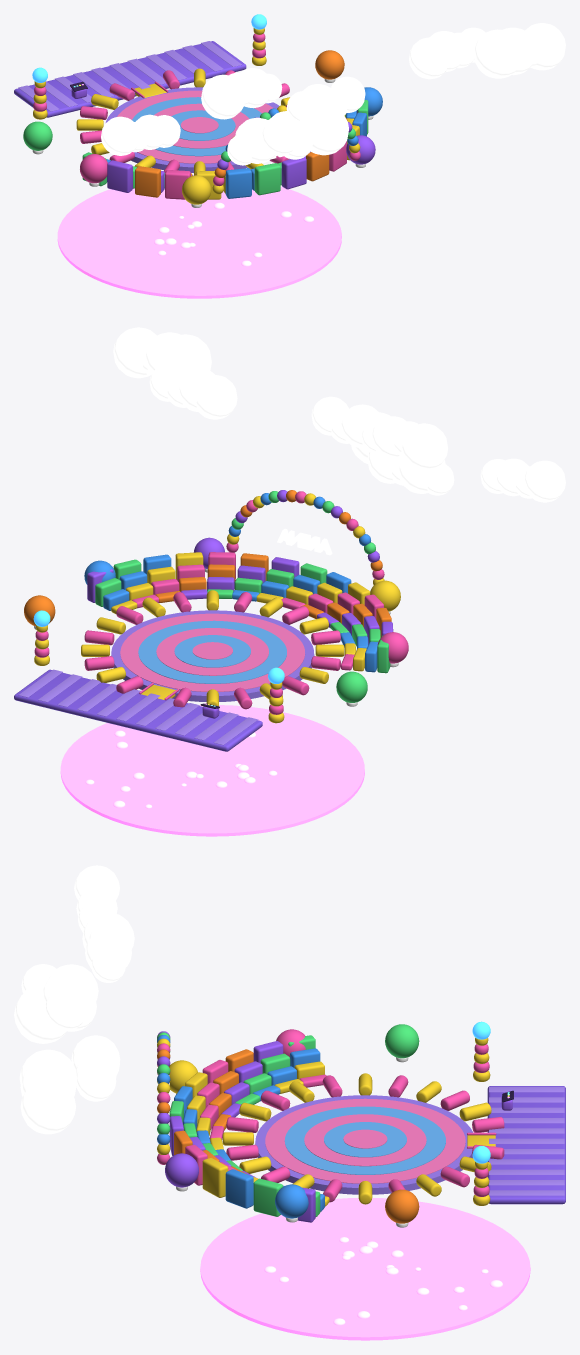
File: room_arena.glb
The picture shows the model from 3 angles, top to bottom: view 1: azimuth 30°, elevation 25°; view 2: azimuth 150°, elevation 25°; view 3: azimuth 270°, elevation 25°; orthographic projection. The views are drawn at different scales.
Visible parts, largest first — view 1: GooPool, Stands, Cloud_3, Lobby, Cloud_0, ArenaRim, Floor, Cloud_5, Cloud_6, Cloud_4, Cloud_1, Cloud_2 (+16 smaller); view 2: GooPool, Stands, ArenaRim, Lobby, FieldBaseRing_0, Floor, Cloud_3, Cloud_6, Cloud_5, FieldBaseRing_1, Cloud_4, BalloonArch (+11 smaller); view 3: GooPool, Stands, ArenaRim, Lobby, FieldBaseRing_0, Floor, Cloud_3, FieldBaseRing_1, FieldBase, Cloud_5, FieldBaseRing_2, Cloud_6 (+15 smaller).
Part boxes in pixels (x1,y1,x2,y2): GooPool: (57, 186, 341, 298); Stands: (82, 100, 368, 199); Cloud_3: (473, 23, 565, 78); Lobby: (14, 41, 246, 117); Cloud_0: (262, 107, 348, 159); ArenaRim: (76, 68, 289, 175); Floor: (18, 41, 241, 111); Cloud_5: (201, 68, 282, 119); Cloud_6: (409, 27, 485, 79); Cloud_4: (101, 114, 180, 155); Cloud_1: (286, 76, 365, 121); Cloud_2: (227, 111, 297, 165); GooPool: (60, 705, 364, 836); Stands: (87, 552, 393, 673); ArenaRim: (81, 590, 344, 709); Lobby: (14, 669, 262, 751); FieldBaseRing_0: (120, 613, 304, 691); Floor: (18, 669, 258, 745); Cloud_3: (113, 327, 211, 378); Cloud_6: (149, 364, 237, 419); Cloud_5: (361, 416, 447, 471); FieldBaseRing_1: (138, 620, 286, 683); Cloud_4: (480, 458, 565, 502); BalloonArch: (226, 490, 384, 585); GooPool: (200, 1198, 530, 1340); Stands: (169, 1035, 329, 1222); ArenaRim: (222, 1073, 504, 1204); Lobby: (487, 1086, 565, 1204); FieldBaseRing_0: (265, 1098, 465, 1183); Floor: (489, 1087, 564, 1195); Cloud_3: (19, 1049, 77, 1134); FieldBaseRing_1: (284, 1106, 445, 1174); FieldBase: (255, 1095, 472, 1194); Cloud_5: (82, 912, 134, 982); FieldBaseRing_2: (304, 1114, 426, 1166); Cloud_6: (71, 1035, 120, 1101).
Size of the model in its own units: 48.07 by 28.02 by 45.14.
